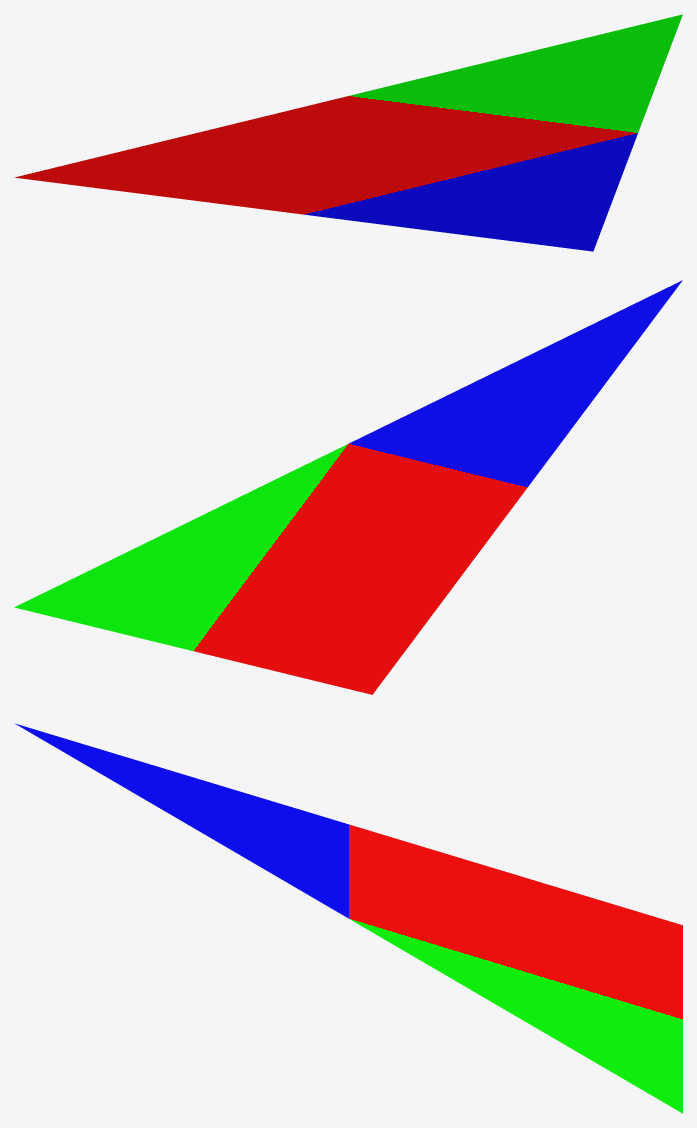
Rendered from unproven-metric.glb.
The picture shows the model from 3 angles, top to bottom: view 1: azimuth 30°, elevation 25°; view 2: azimuth 150°, elevation 25°; view 3: azimuth 270°, elevation 25°; orthographic projection. The views are drawn at different scales.
Bounding box in the file's own units: 2 × 1 × 3.
1 material, 1 textured.
